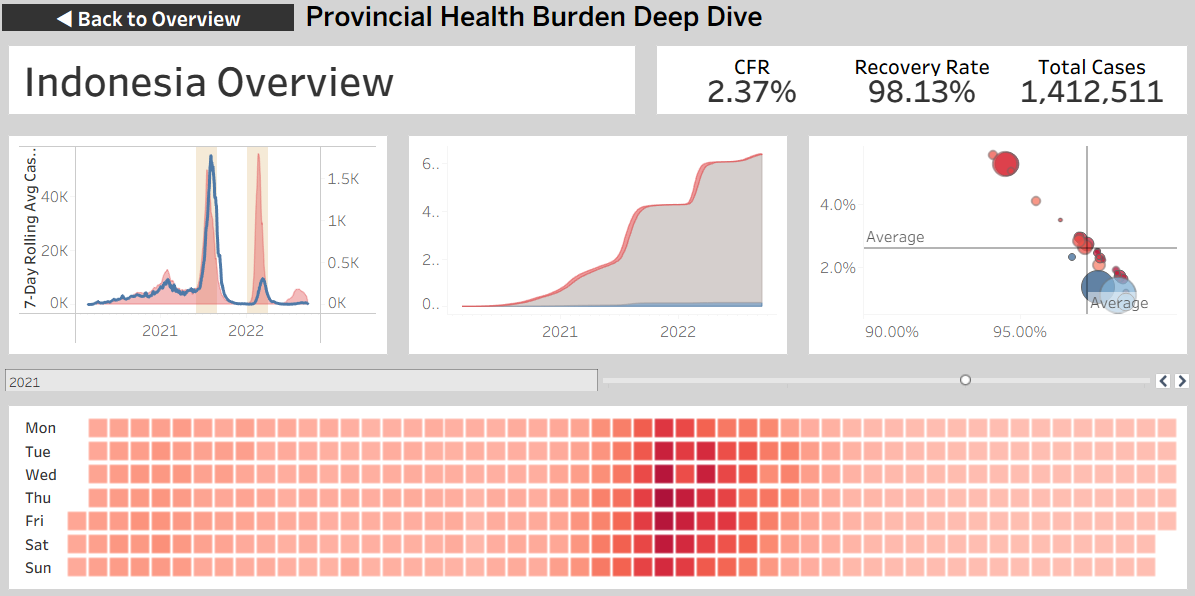

The page's visual inventory and layout, read from the dashboard file:
{"tool":"tableau","page":{"name":"Detailed Dashboard","canvas":[1200,600],"ordinal":0},"visuals":[{"type":"dashboard-object","box":[0,0,300,35]},{"type":"text","box":[300,0,900,35]},{"type":"worksheet","title":"Dynamic Title","mark":"Automatic","box":[0,35,648,90]},{"type":"worksheet","title":"KPI Strip","mark":"Automatic","box":[648,35,552,90]},{"type":"worksheet","title":"7-Day Rolling Average","mark":"Line","cols":["Date"],"box":[0,125,400,240]},{"type":"worksheet","title":"Active Cases","mark":"Area","cols":["Date"],"box":[400,125,400,240]},{"type":"worksheet","title":"CFR vs Recovery Rate","mark":"Circle","rows":["Calculation_0337003582398464"],"cols":["Calculation_0337003582693377"],"box":[800,125,400,240]},{"type":"filter","title":"Calendar Heatmap","param":"[federated.0ezrw3i0km54wp1fplhhp18pabxi].[yr:Date:ok]","box":[0,365,1200,30]},{"type":"worksheet","title":"Calendar Heatmap","mark":"Shape","rows":["Date"],"cols":["Date"],"box":[0,395,1200,205]}]}

Visuals, with their boxes in screenshot pixels (x1, y1, x2, y2), scaled from the page's 1200x600 canvas onto the 1195x596 screenshot:
dashboard-object: [x1=0, y1=0, x2=299, y2=35]
text: [x1=299, y1=0, x2=1194, y2=35]
"Dynamic Title" worksheet: [x1=0, y1=35, x2=645, y2=124]
"KPI Strip" worksheet: [x1=645, y1=35, x2=1194, y2=124]
"7-Day Rolling Average" worksheet (Line marks): [x1=0, y1=124, x2=398, y2=363]
"Active Cases" worksheet (Area marks): [x1=398, y1=124, x2=797, y2=363]
"CFR vs Recovery Rate" worksheet (Circle marks): [x1=797, y1=124, x2=1194, y2=363]
"Calendar Heatmap" filter: [x1=0, y1=363, x2=1194, y2=392]
"Calendar Heatmap" worksheet (Shape marks): [x1=0, y1=392, x2=1194, y2=595]
